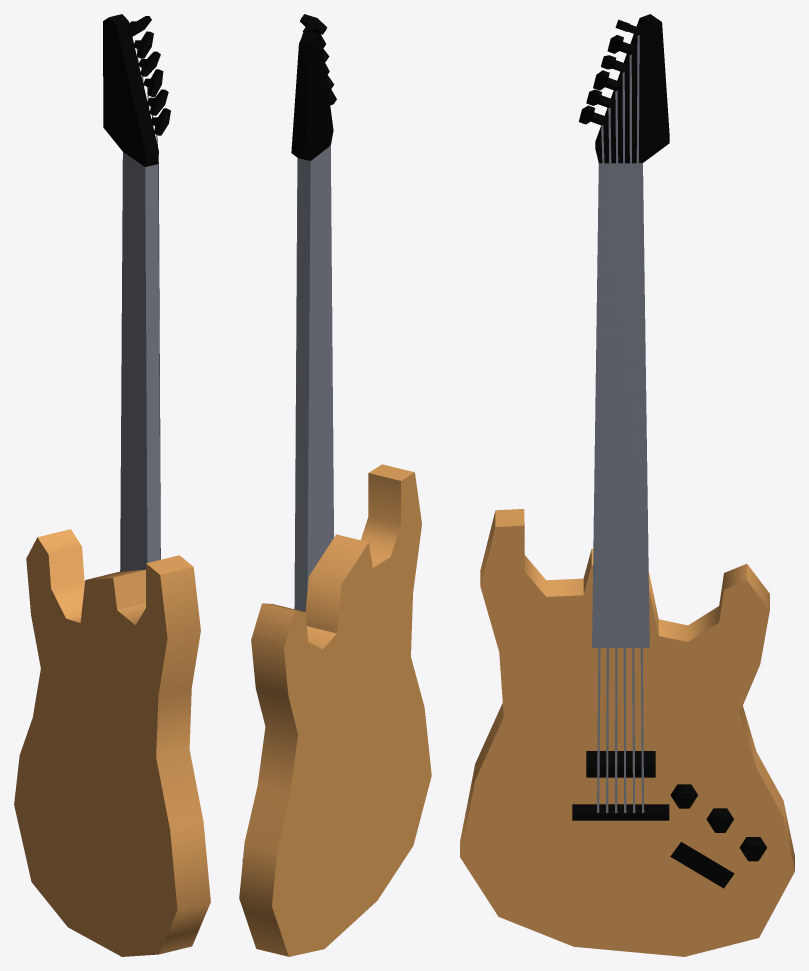
The model's file is guitar_deco.glb.
The picture shows the model from 3 angles, left to right: view 1: azimuth 30°, elevation 25°; view 2: azimuth 150°, elevation 25°; view 3: azimuth 270°, elevation 25°; orthographic projection. The views are drawn at different scales.
Parts seen in each view (by area): view 1: musical_instrument.008; view 2: musical_instrument.008; view 3: musical_instrument.008.
Boxes of the visible parts, x1=… form: musical_instrument.008: x1=14, y1=14, x2=210, y2=956; musical_instrument.008: x1=239, y1=14, x2=431, y2=956; musical_instrument.008: x1=460, y1=14, x2=794, y2=956.
Bounding box in the file's own units: 0.0801 × 1.25 × 0.4007.
